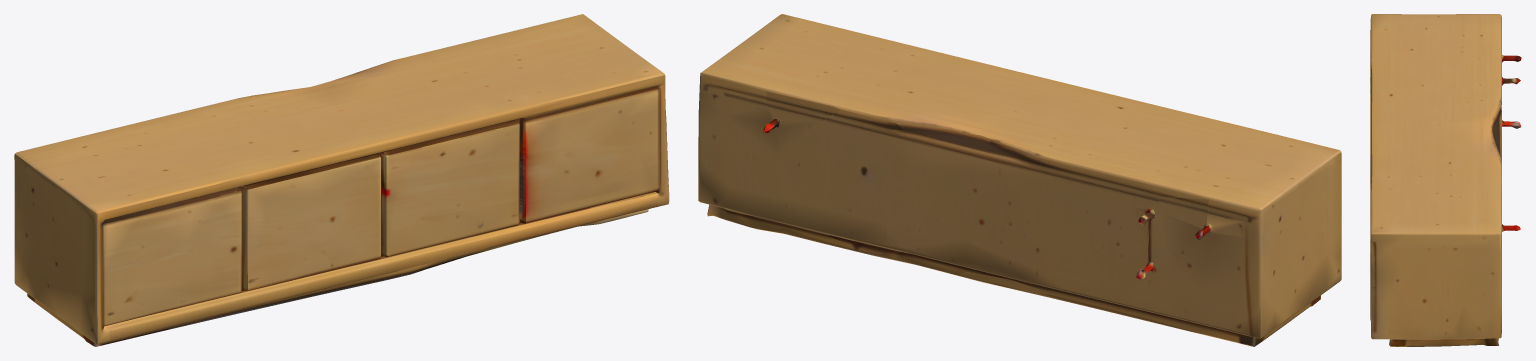
File: MeubleTV4_3D_textured.glb
The picture shows the model from 3 angles, left to right: view 1: azimuth 30°, elevation 25°; view 2: azimuth 150°, elevation 25°; view 3: azimuth 270°, elevation 25°; orthographic projection. The views are drawn at different scales.
Visible parts, largest first — view 1: temp_mesh.ply; view 2: temp_mesh.ply; view 3: temp_mesh.ply.
Part boxes in pixels (x1=…): temp_mesh.ply: x1=14, y1=14, x2=669, y2=346; temp_mesh.ply: x1=698, y1=14, x2=1341, y2=346; temp_mesh.ply: x1=1370, y1=14, x2=1521, y2=346.
Bounding box in the file's own units: 1.97 × 0.4853 × 0.5674.
1 material, 1 textured.
